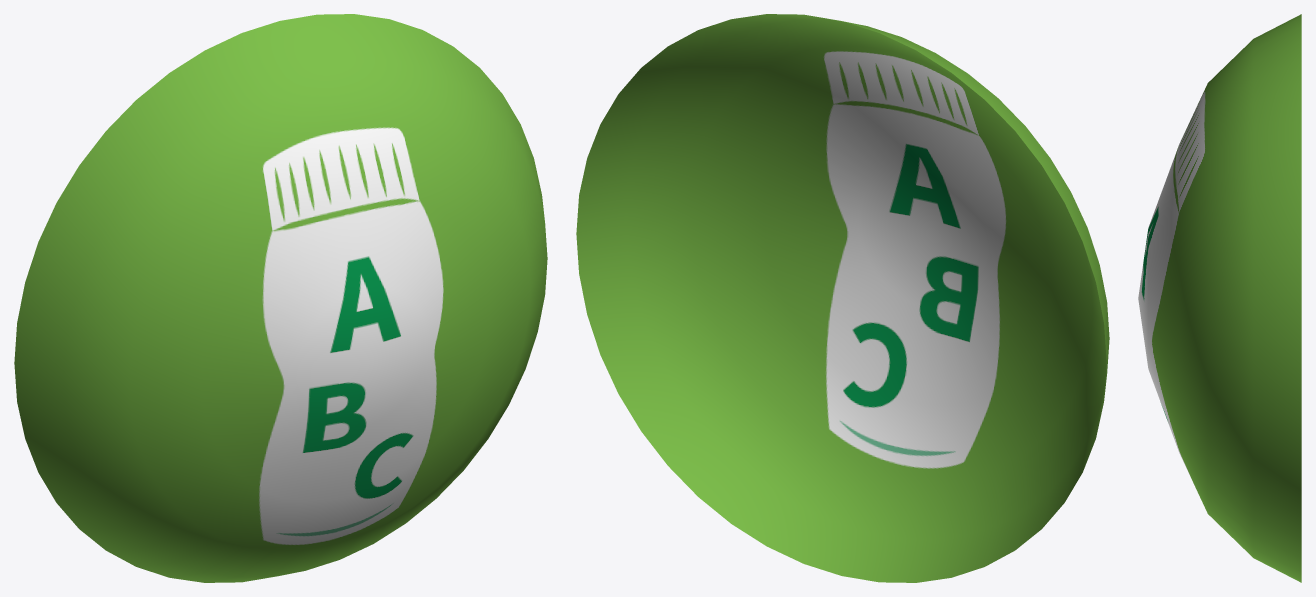
File: Icon_multivit_pote.glb
3 renders of one model, left to right at view 1: azimuth 30°, elevation 25°; view 2: azimuth 150°, elevation 25°; view 3: azimuth 270°, elevation 25°, orthographic. The views are drawn at different scales.
Parts seen in each view (by area): view 1: Cylinder; view 2: Cylinder; view 3: Cylinder.
Boxes of the visible parts, x1=… form: Cylinder: x1=14, y1=14, x2=547, y2=582; Cylinder: x1=576, y1=14, x2=1109, y2=582; Cylinder: x1=1138, y1=14, x2=1301, y2=582.
Bounding box in the file's own units: 0.0859 × 0.0859 × 0.0247.
1 material, 1 textured.
